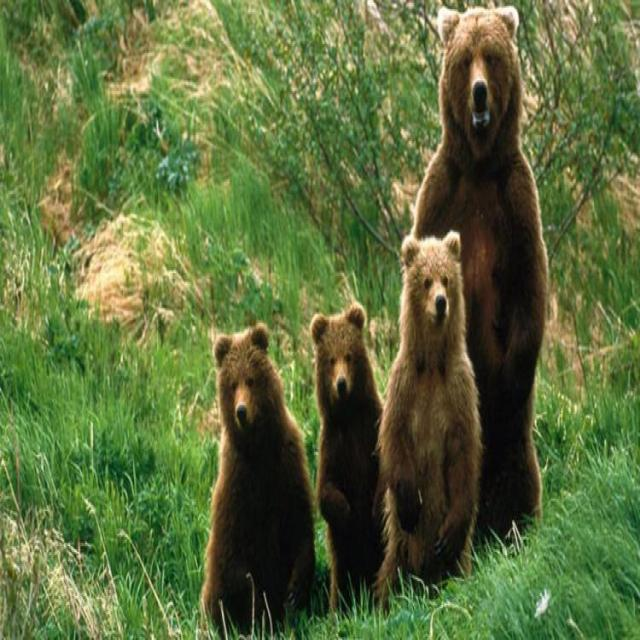Bear: (413, 8, 548, 543), (375, 232, 481, 601), (200, 325, 317, 638), (310, 306, 384, 608)
